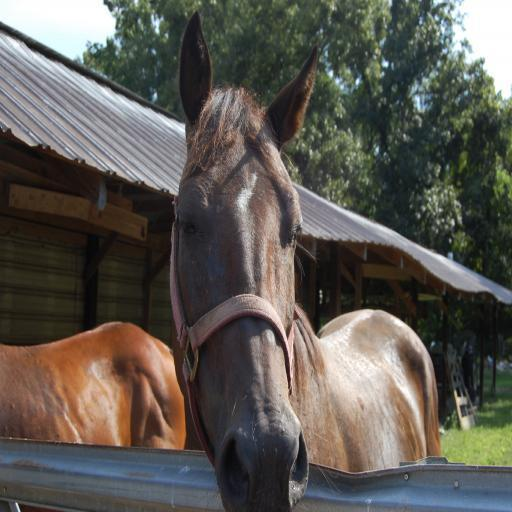horse: (168, 10, 440, 512), (0, 320, 187, 450)
